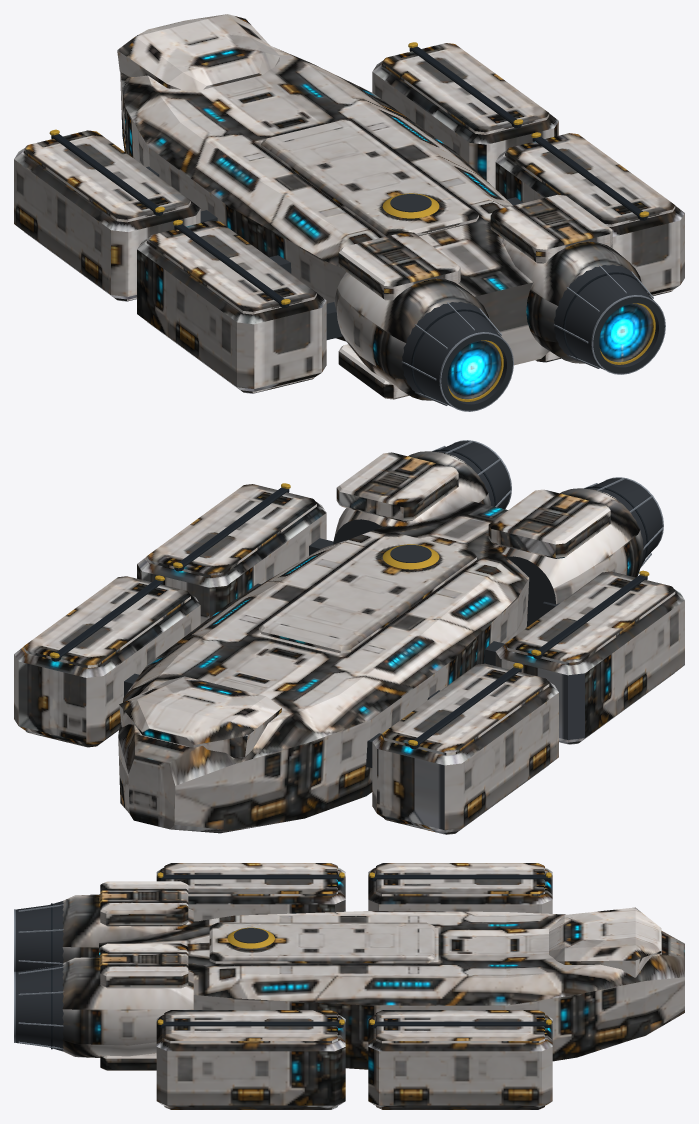
Rendered from troop-transport.glb.
The picture shows the model from 3 angles, top to bottom: view 1: azimuth 30°, elevation 25°; view 2: azimuth 150°, elevation 25°; view 3: azimuth 270°, elevation 25°; orthographic projection. The views are drawn at different scales.
Parts seen in each view (by area): view 1: Reference artwork | titanium, brass, panels and canopy, Structural frames | gunmetal, Structural rails | dark alloy, Ventral armor | dedicated bottom-view reference, Machined titanium edges, Warm brass collars; view 2: Reference artwork | titanium, brass, panels and canopy, Structural frames | gunmetal, Structural rails | dark alloy, Ventral armor | dedicated bottom-view reference, Warm brass collars, Machined titanium edges; view 3: Reference artwork | titanium, brass, panels and canopy, Structural frames | gunmetal, Structural rails | dark alloy, Ventral armor | dedicated bottom-view reference, Machined titanium edges, Warm brass collars.
Boxes of the visible parts, box(x1,y1,x2,y2) form: Reference artwork | titanium, brass, panels and canopy: box(14, 14, 684, 399); Structural frames | gunmetal: box(146, 166, 664, 410); Structural rails | dark alloy: box(51, 46, 647, 396); Ventral armor | dedicated bottom-view reference: box(17, 222, 679, 400); Machined titanium edges: box(401, 265, 665, 411); Warm brass collars: box(49, 42, 655, 401); Reference artwork | titanium, brass, panels and canopy: box(14, 451, 684, 834); Structural frames | gunmetal: box(124, 441, 662, 767); Structural rails | dark alloy: box(51, 449, 648, 748); Ventral armor | dedicated bottom-view reference: box(19, 488, 680, 834); Warm brass collars: box(49, 483, 649, 745); Machined titanium edges: box(432, 440, 663, 567); Reference artwork | titanium, brass, panels and canopy: box(62, 863, 684, 1109); Structural frames | gunmetal: box(15, 901, 268, 1051); Structural rails | dark alloy: box(51, 874, 550, 1049); Ventral armor | dedicated bottom-view reference: box(62, 923, 684, 1109); Machined titanium edges: box(14, 904, 63, 1049); Warm brass collars: box(157, 872, 551, 1024).
Bounding box in the file's own units: 11.5 × 3.11 × 17.75.
7 materials, 2 textured.
